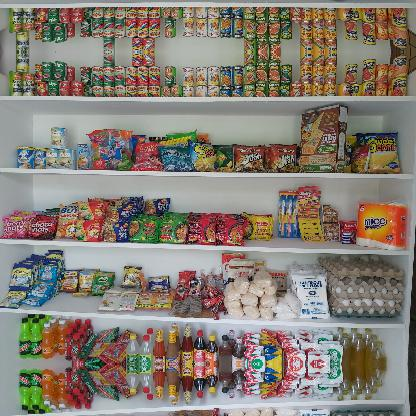Koko-Krunch: (298, 104, 348, 172)
